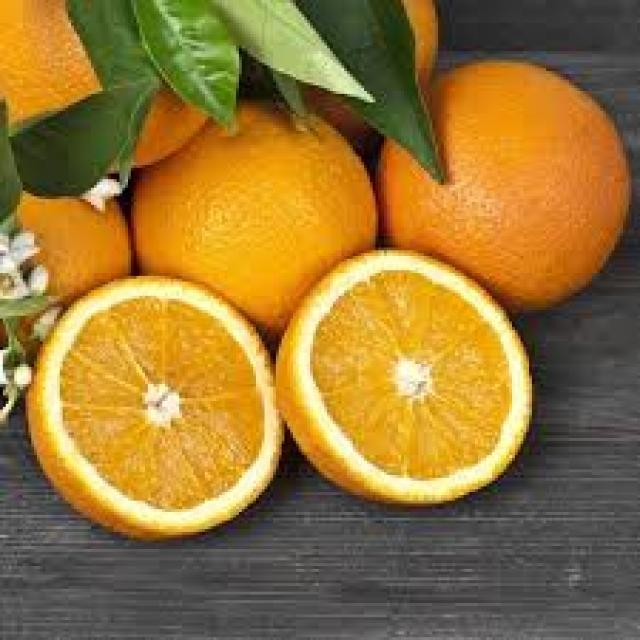Orange: (22, 273, 284, 541), (273, 244, 532, 506), (376, 57, 632, 313), (128, 96, 378, 338), (0, 0, 208, 168), (0, 185, 131, 362), (282, 0, 443, 144)
